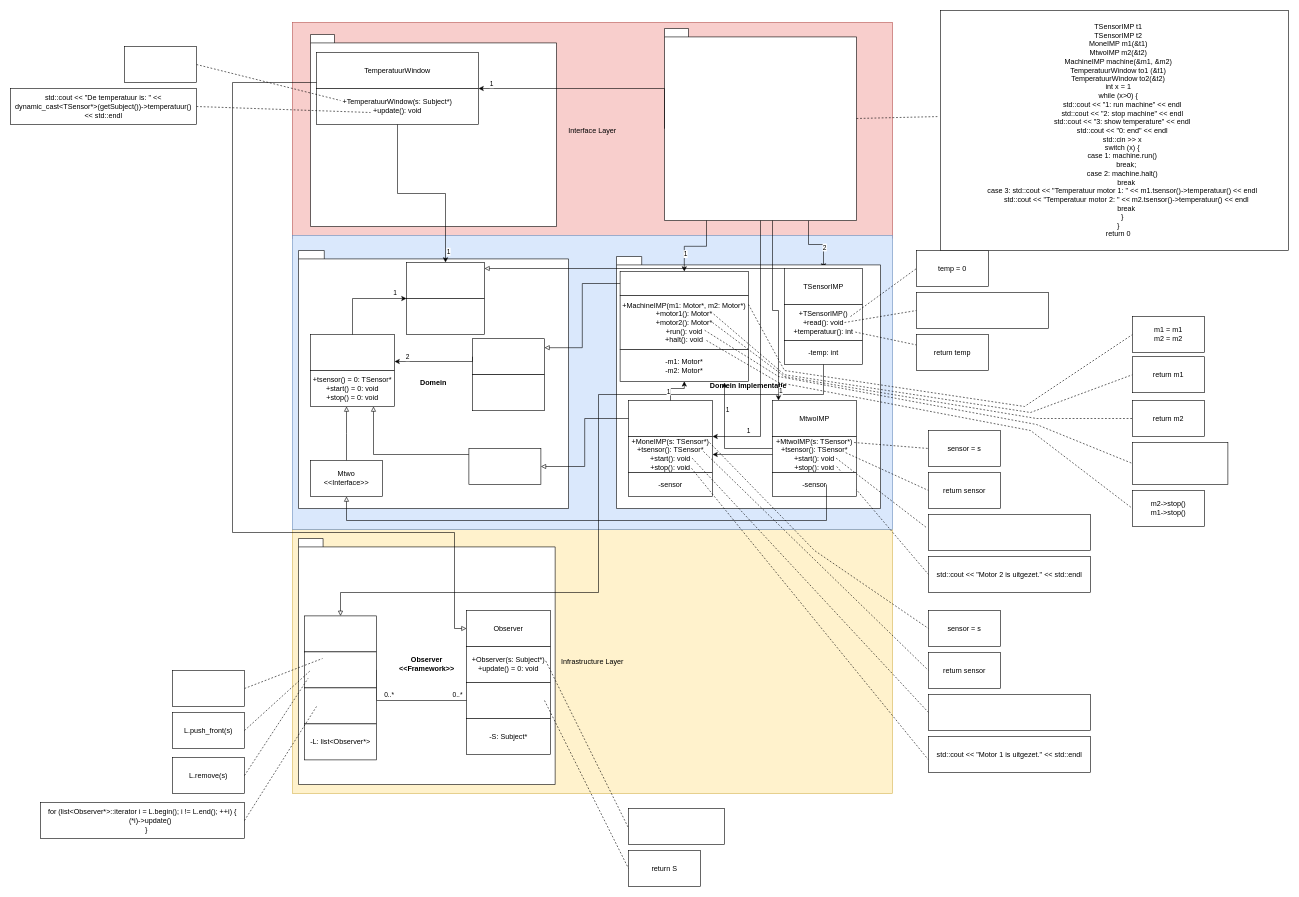
Image size: 1299x897. Some labels were removed from this diagram. Each missing label, with the box of its shape:
#getSubject(): Subject*: (466, 682, 550, 718)
#notify(): void: (304, 687, 376, 724)
+motor1() = 0: Motor* +motor2() = 0: Motor* +run() = 0: void +halt() = 0: void: (472, 374, 544, 411)
+read() = 0: void +temperatuur() = 0: int: (406, 298, 484, 334)
+Subject() +insert(s: Object*) +remove(s: Object*): (304, 651, 376, 688)
Domain Layer: (292, 235, 892, 530)
m1->start() m1->tsensor()->read() m2->start() m2->tsensor()->read(): (1132, 442, 1228, 484)
Machine <<Interface>>: (472, 338, 544, 375)
MachineIMP: (620, 271, 748, 296)
Main <<Function>>: (664, 28, 856, 220)
Mone <<Interface>>: (468, 448, 541, 484)
MoneIMP: (628, 400, 712, 436)
Motor <<Interface>>: (310, 334, 394, 370)
Observer = n: (124, 46, 196, 82)
S = s getSubject()->insert(this): (628, 808, 724, 844)
std::cout << "Geef temperatuur: " std::cin >> temp notify(): (916, 292, 1048, 328)
std::cout << "Motor 1 is aangezet." << std::endl: (928, 694, 1090, 730)
std::cout << "Motor 2 is aangezet." << std::endl: (928, 514, 1090, 550)
Subject: (304, 615, 376, 652)
TSensor <<Interface>>: (406, 262, 484, 298)
User Interface: (310, 34, 556, 226)
